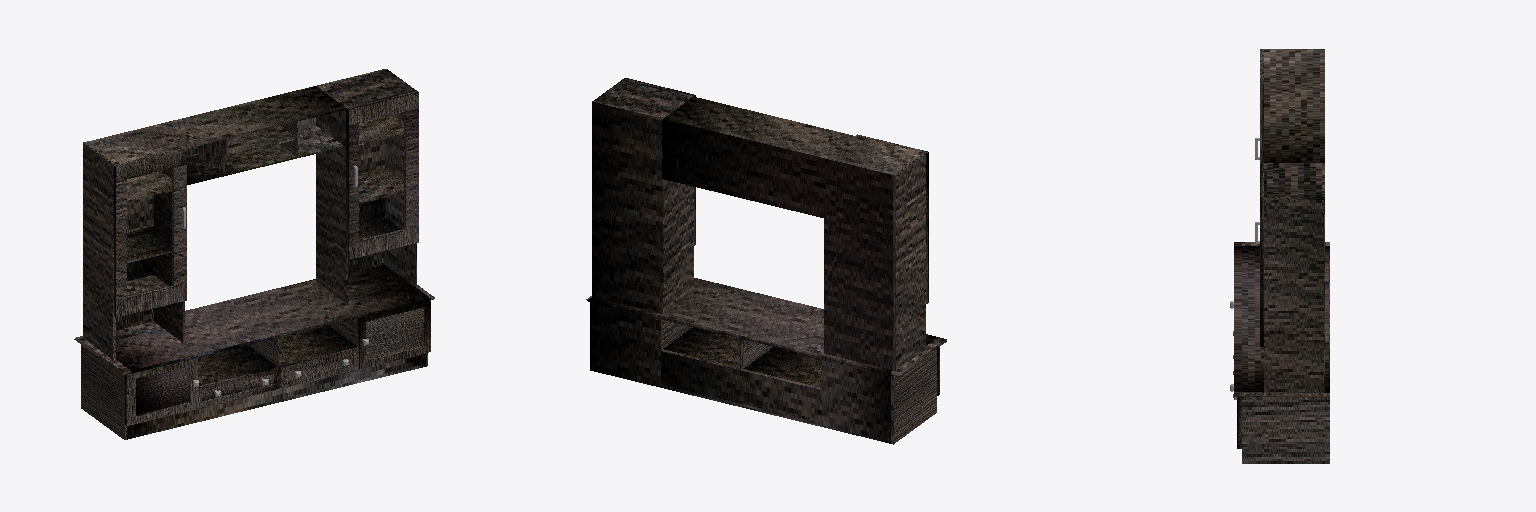
The picture shows the model from 3 angles: view 1: azimuth 30°, elevation 25°; view 2: azimuth 150°, elevation 25°; view 3: azimuth 270°, elevation 25°; orthographic projection.
Parts seen in each view (by area): view 1: Cube.001, Cube.006_Cube.008, Cube.007_Cube.009, Cube.002_Cube.003, Cube.003_Cube.004, Cube.004_Cube.005, Cube.005_Cube.006; view 2: Cube.001, Cube.006_Cube.008; view 3: Cube.001, Cube.007_Cube.009.
Part boxes in pixels (bbox=[...]): Cube.001: bbox=[74, 69, 434, 439]; Cube.006_Cube.008: bbox=[114, 148, 186, 317]; Cube.007_Cube.009: bbox=[346, 91, 418, 259]; Cube.002_Cube.003: bbox=[125, 358, 197, 425]; Cube.003_Cube.004: bbox=[357, 301, 430, 368]; Cube.004_Cube.005: bbox=[198, 367, 279, 407]; Cube.005_Cube.006: bbox=[279, 347, 358, 387]; Cube.001: bbox=[586, 79, 946, 444]; Cube.006_Cube.008: bbox=[856, 134, 928, 303]; Cube.001: bbox=[1234, 49, 1329, 463]; Cube.007_Cube.009: bbox=[1260, 163, 1263, 346].
Bounding box in the file's own units: 82.3 × 67.04 × 22.92.
Materials: 2 (1 with a texture image).